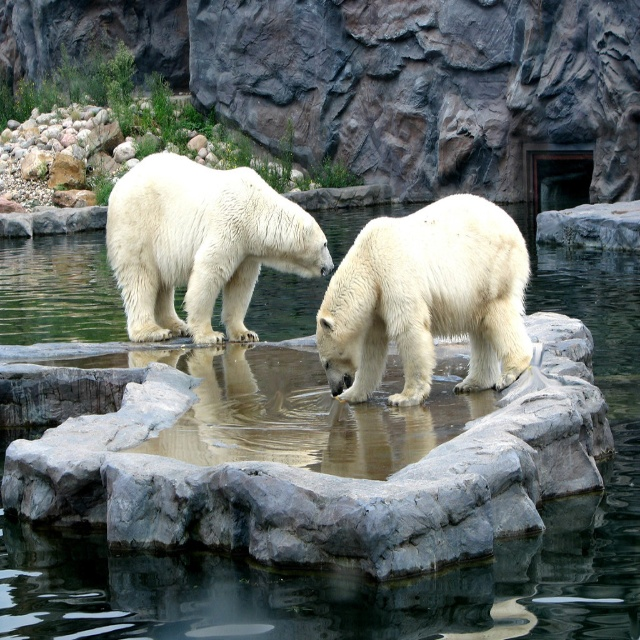Polar bear: (315, 190, 534, 409), (101, 148, 333, 346)
